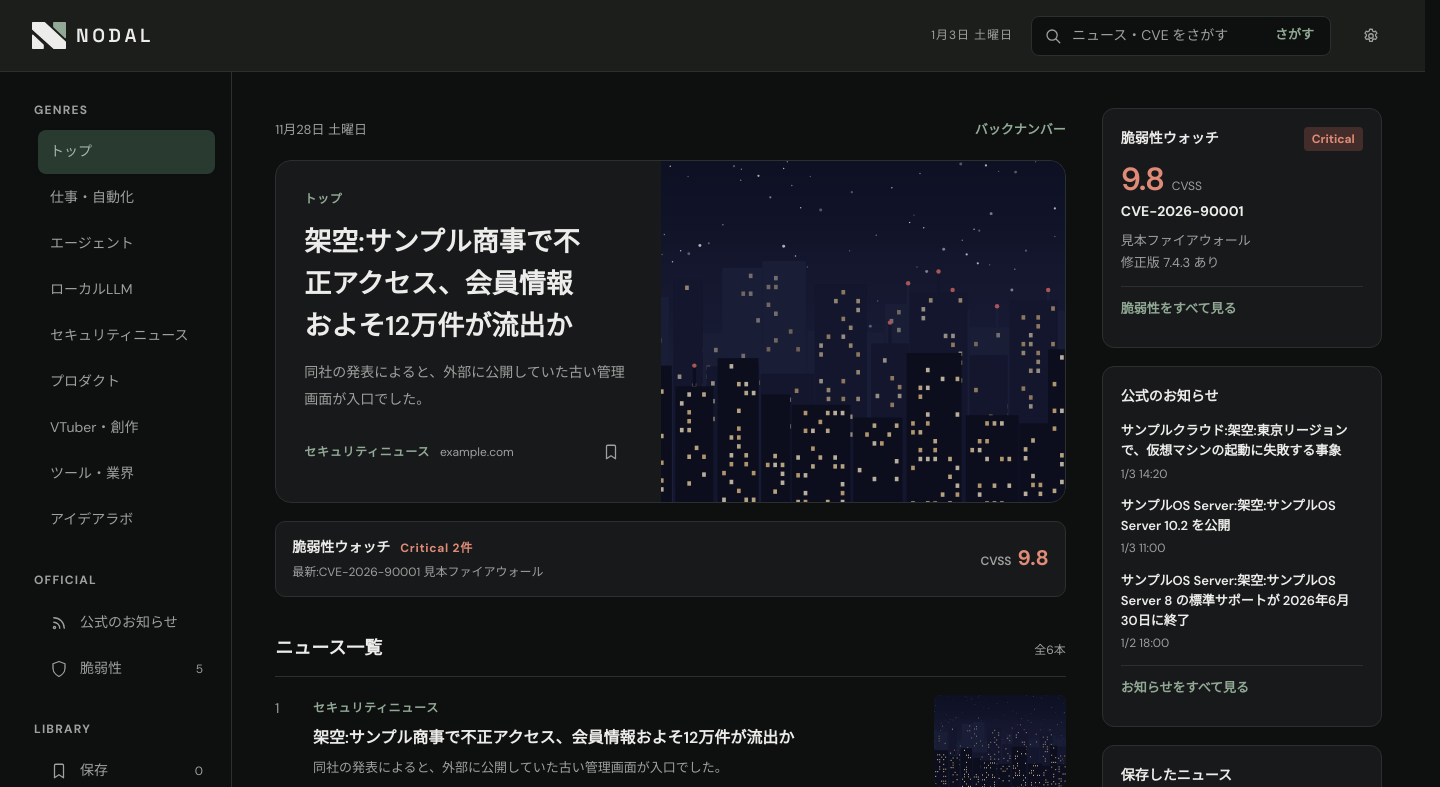
Test case: さがす:入力中の候補 › ↑↓で移り(端で折り返す)、Enter でその候補を開く。「戻る」で元の画面に戻る
Later steps or results of the test are not shown.
Type "エージェント" into the dropdown named "検索語". click: (1166, 36)
box: left=1070, top=23, right=1263, bottom=48
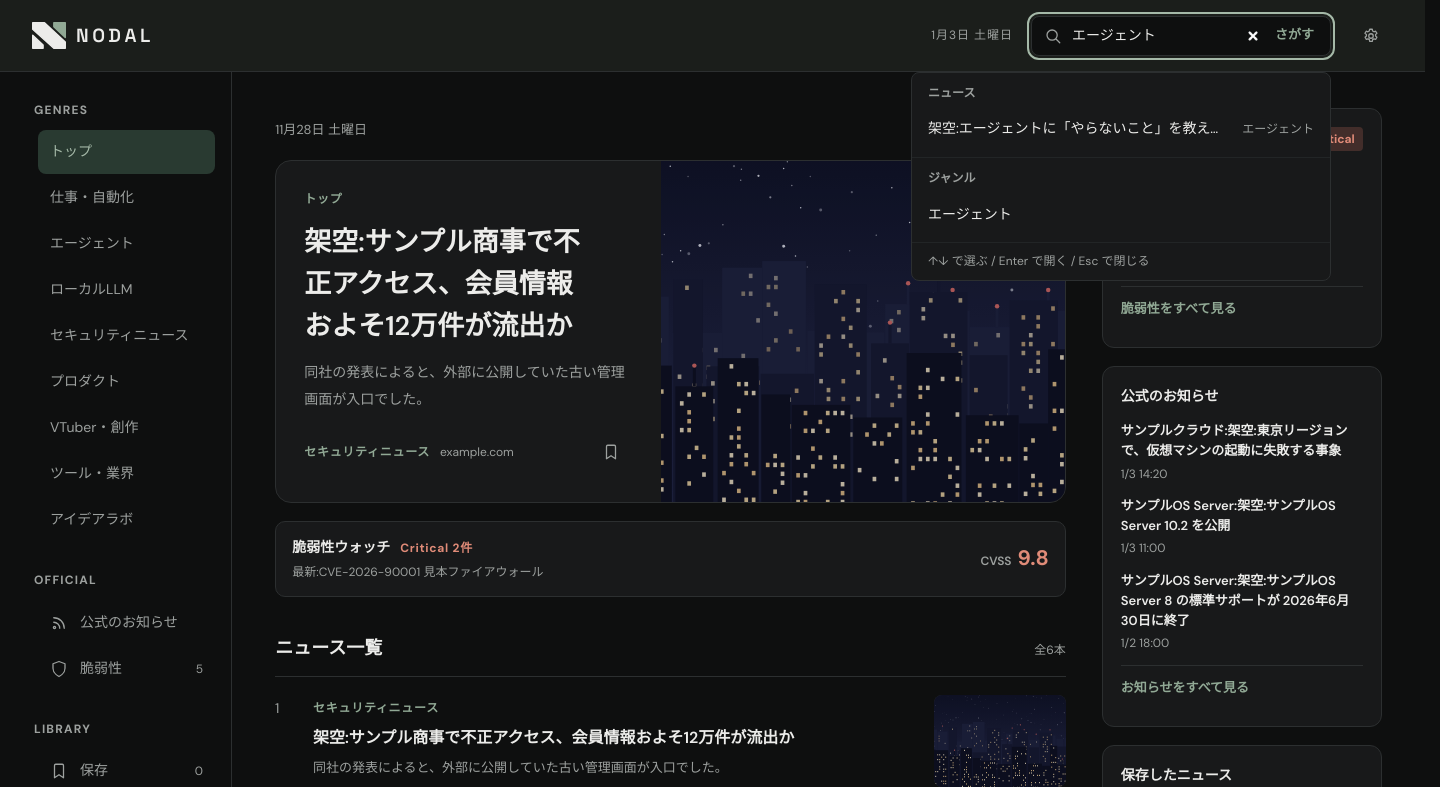
Press Arrowdown
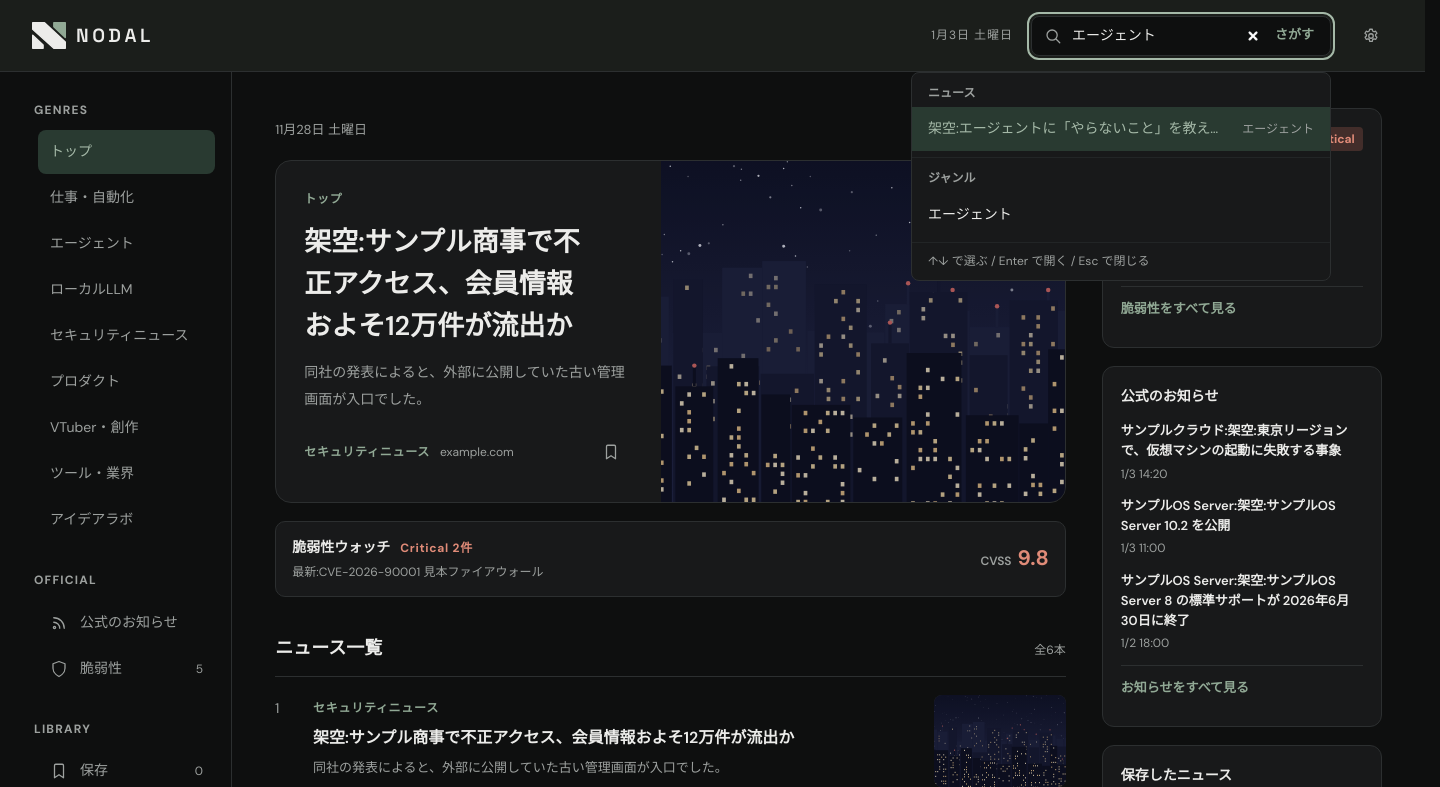
expect the option "架空:エージェントに「やらないこと」を教える書き方 エージェント" is selected: met, box left=912, top=107, right=1330, bottom=151
Press Arrowup
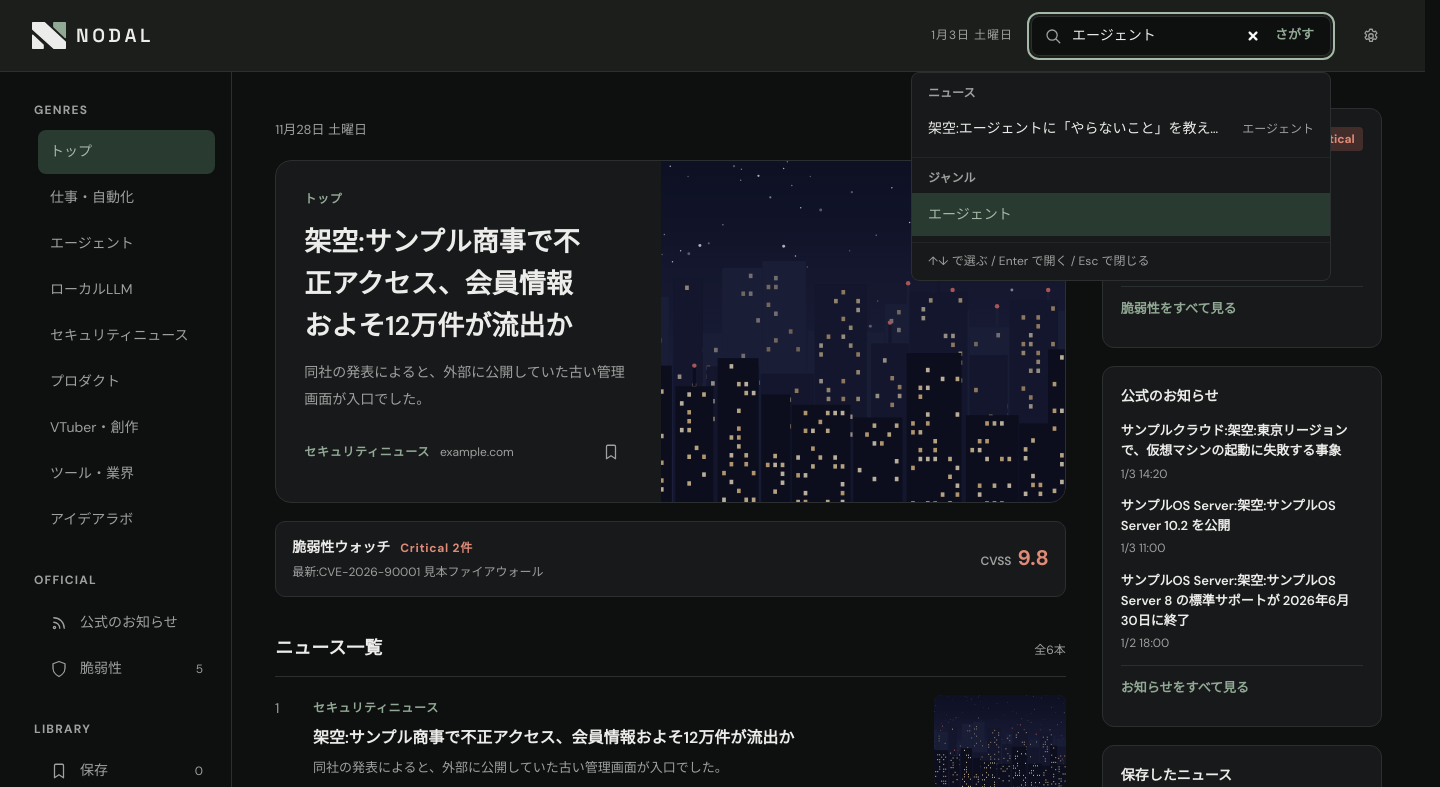
expect the option "エージェント" is selected: met, box left=912, top=193, right=1330, bottom=236
expect the option "架空:エージェントに「やらないこと」を教える書き方 エージェント" is not selected: met, box left=928, top=119, right=1314, bottom=137
Press Arrowdown
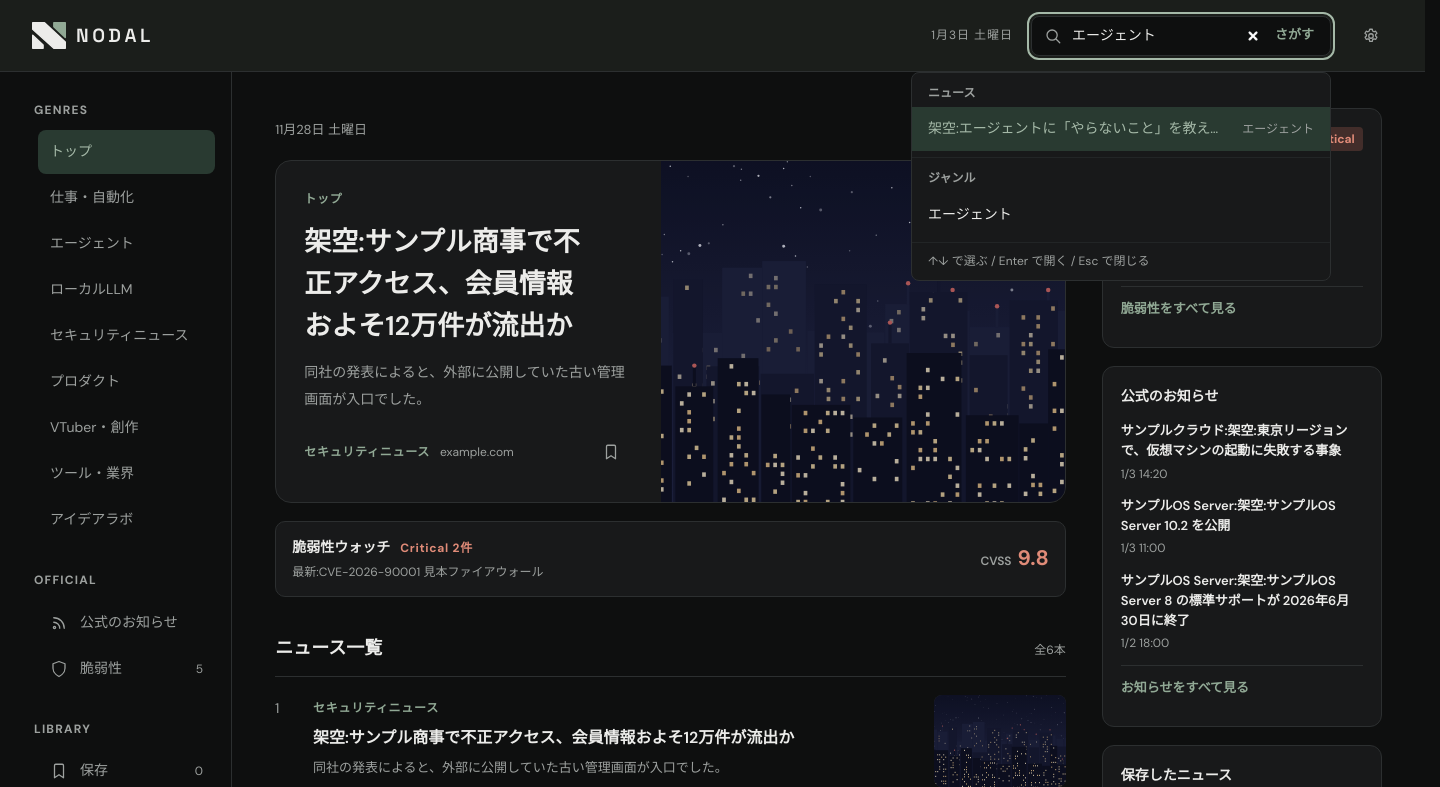
expect the option "架空:エージェントに「やらないこと」を教える書き方 エージェント" is selected: met, box left=912, top=107, right=1330, bottom=151
expect the option "エージェント" is not selected: met, box left=928, top=205, right=1012, bottom=223
Press Enter
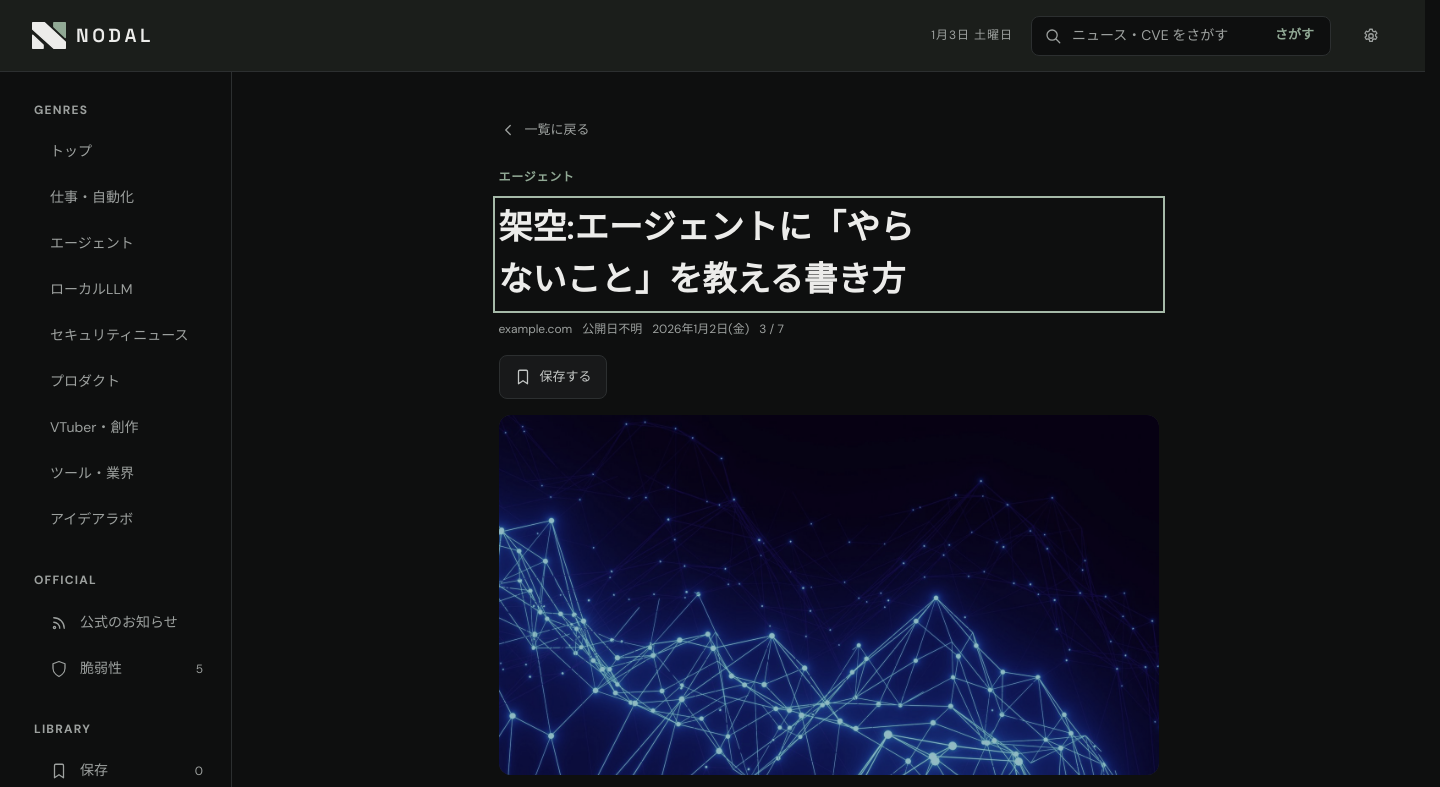
expect the dropdown named "検索語" is collapsed: met, box left=1070, top=23, right=1263, bottom=48
expect the dropdown named "検索語" is empty: met, box left=1070, top=23, right=1263, bottom=48
